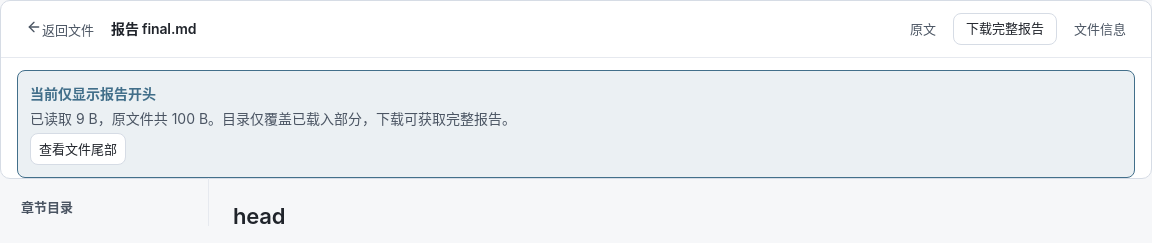
Test case: ArtifactsPage › uses the appropriate initial report window, cancellation, truncation wording, and encoded downloads
Click the button "查看文件尾部": (78, 149) left=30, top=133, right=126, bottom=165
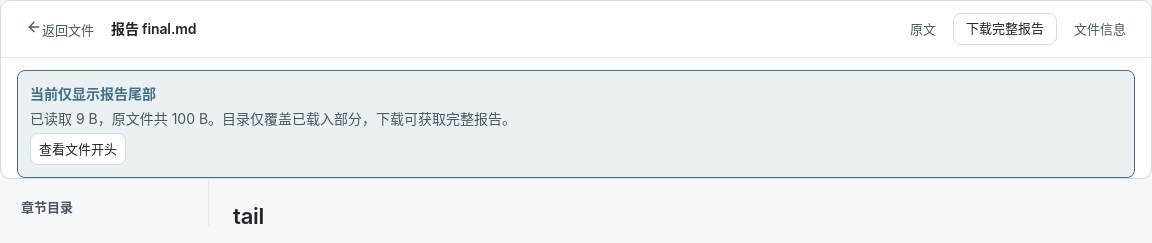
Expected: the text "当前仅显示报告尾部" is shown, left=30, top=85, right=156, bottom=102
Expected: the text "查看文件开头" is shown, left=39, top=141, right=117, bottom=157
Expected: the text "tail" is shown, left=233, top=203, right=264, bottom=226
